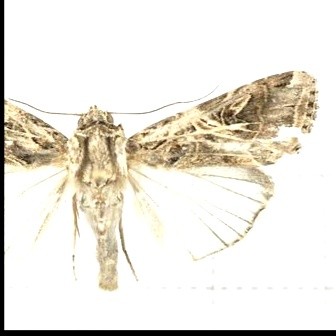Spodoptera litura: (5, 70, 321, 292)
